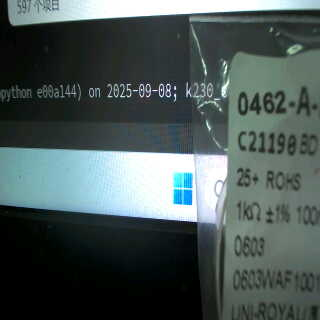1kR: (232, 197, 264, 224)
